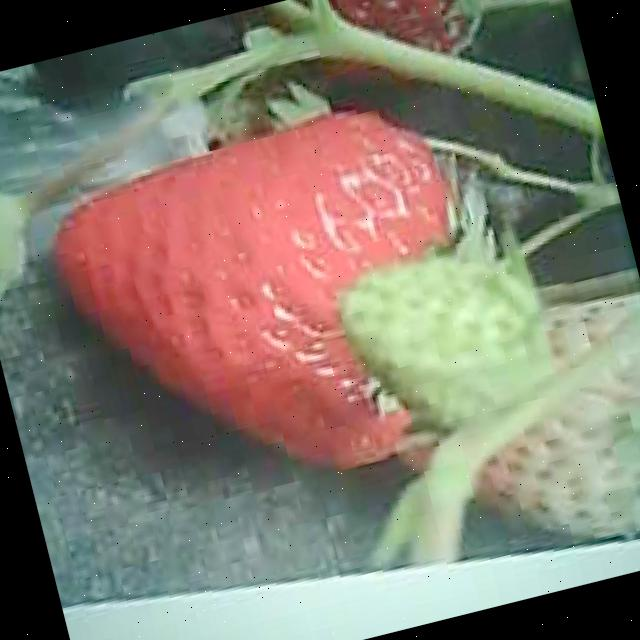strawberry: (34, 88, 503, 525)
